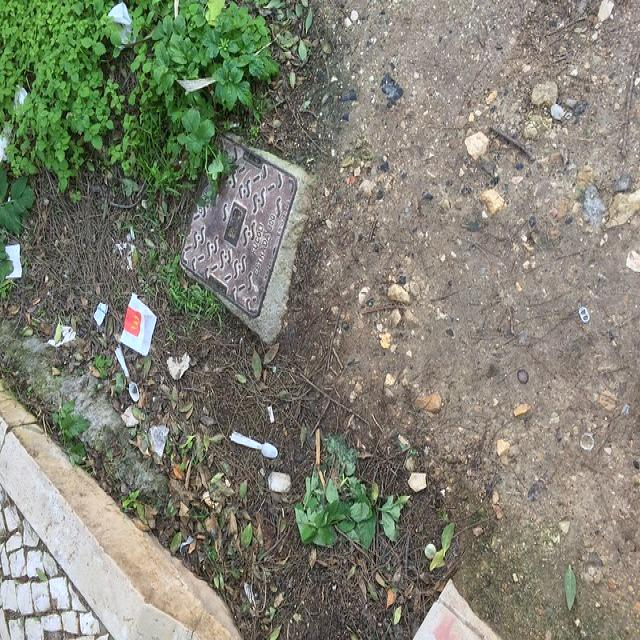Recycle: (228, 429, 277, 458), (112, 344, 138, 398), (148, 426, 171, 458)
Trash: (118, 292, 156, 359), (167, 350, 191, 381)
